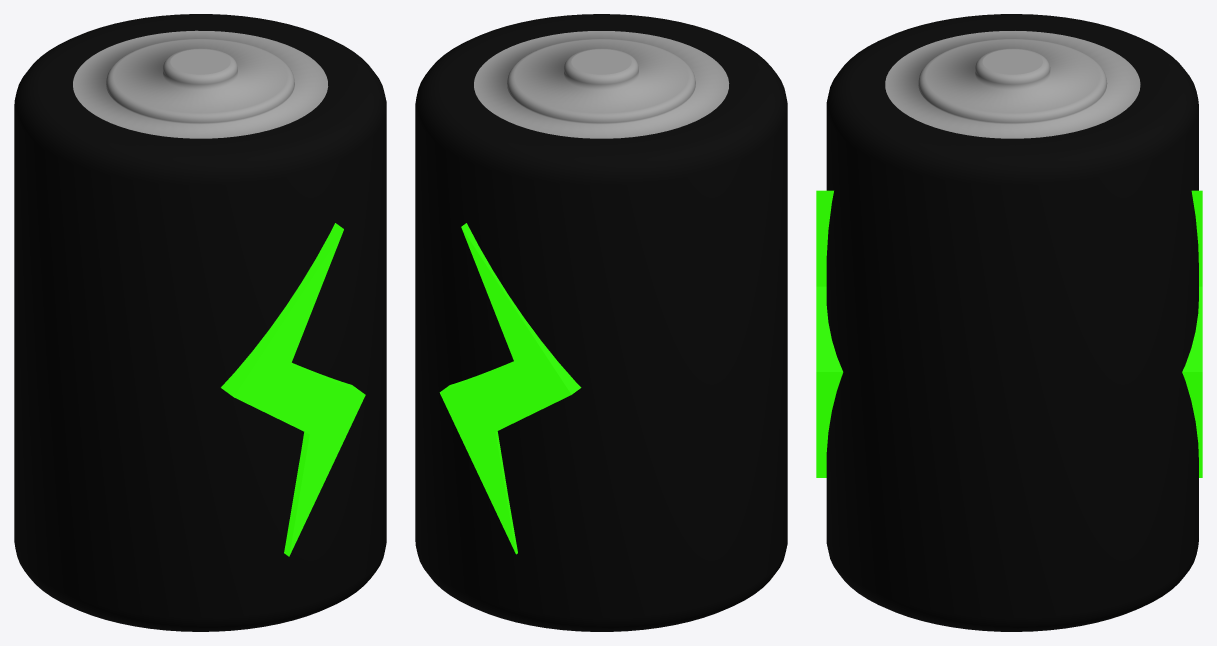
Rendered from Battery.glb.
The picture shows the model from 3 angles, left to right: view 1: azimuth 30°, elevation 25°; view 2: azimuth 150°, elevation 25°; view 3: azimuth 270°, elevation 25°; orthographic projection.
Visible parts, largest first — view 1: Circle; view 2: Circle; view 3: Circle.
Boxes of the visible parts, box(x1,y1,x2,y2) form: Circle: box(14, 14, 386, 631); Circle: box(415, 14, 787, 631); Circle: box(816, 14, 1202, 631).
Bounding box in the file's own units: 0.7137 × 1.09 × 0.7401.
